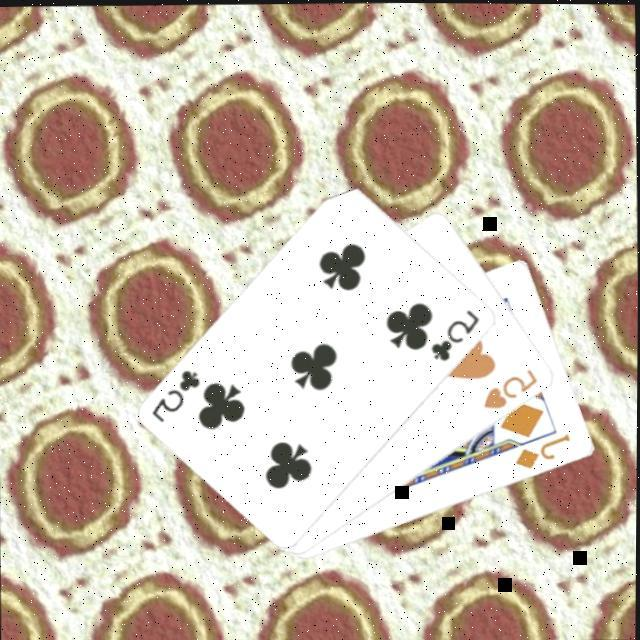5C: (429, 306, 486, 364), (151, 366, 206, 426)
5H: (482, 364, 544, 412)
JD: (514, 429, 577, 472)
